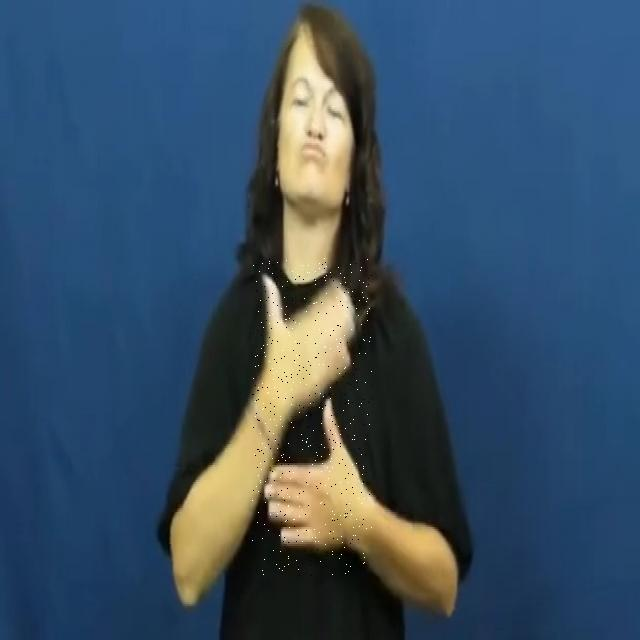enjoy: (252, 257, 372, 577)
